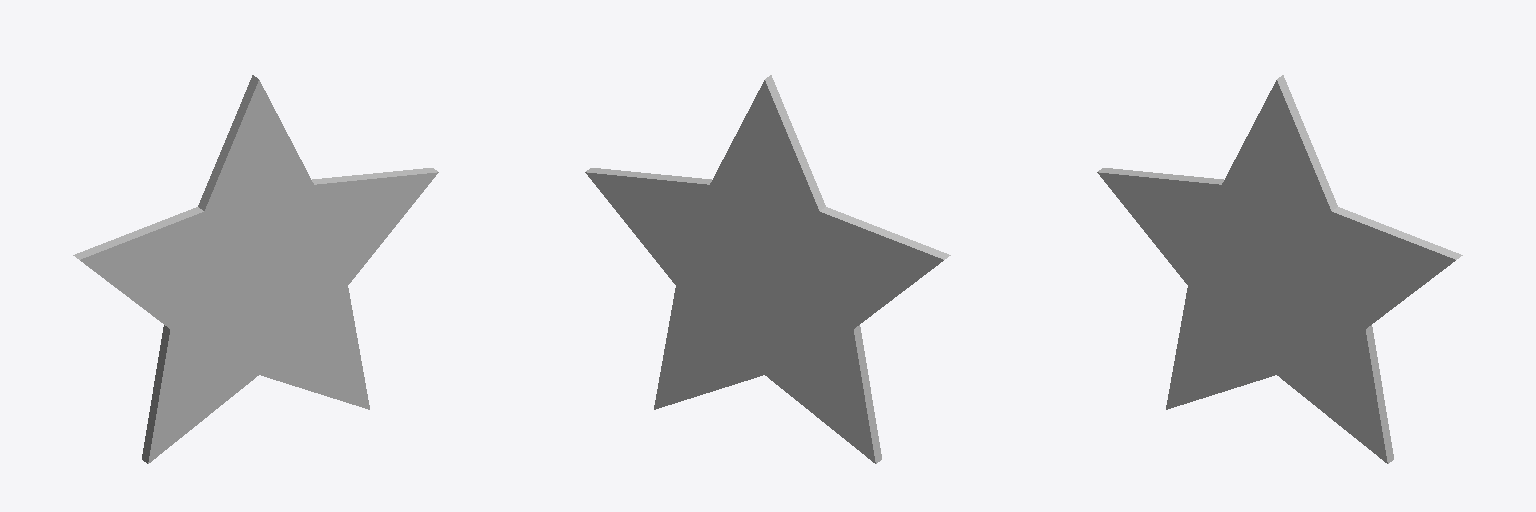
File: Star.obj
The picture shows the model from 3 angles: view 1: azimuth 30°, elevation 25°; view 2: azimuth 150°, elevation 25°; view 3: azimuth 330°, elevation 25°; orthographic projection.
Parts seen in each view (by area): view 1: Sphere; view 2: Sphere; view 3: Sphere.
Part boxes in pixels (left/top/right/bottom): Sphere: left=73, top=75, right=438, bottom=463; Sphere: left=585, top=75, right=950, bottom=463; Sphere: left=1097, top=75, right=1462, bottom=463.
Size of the model in its own units: 1.73 by 1.65 by 0.0545.